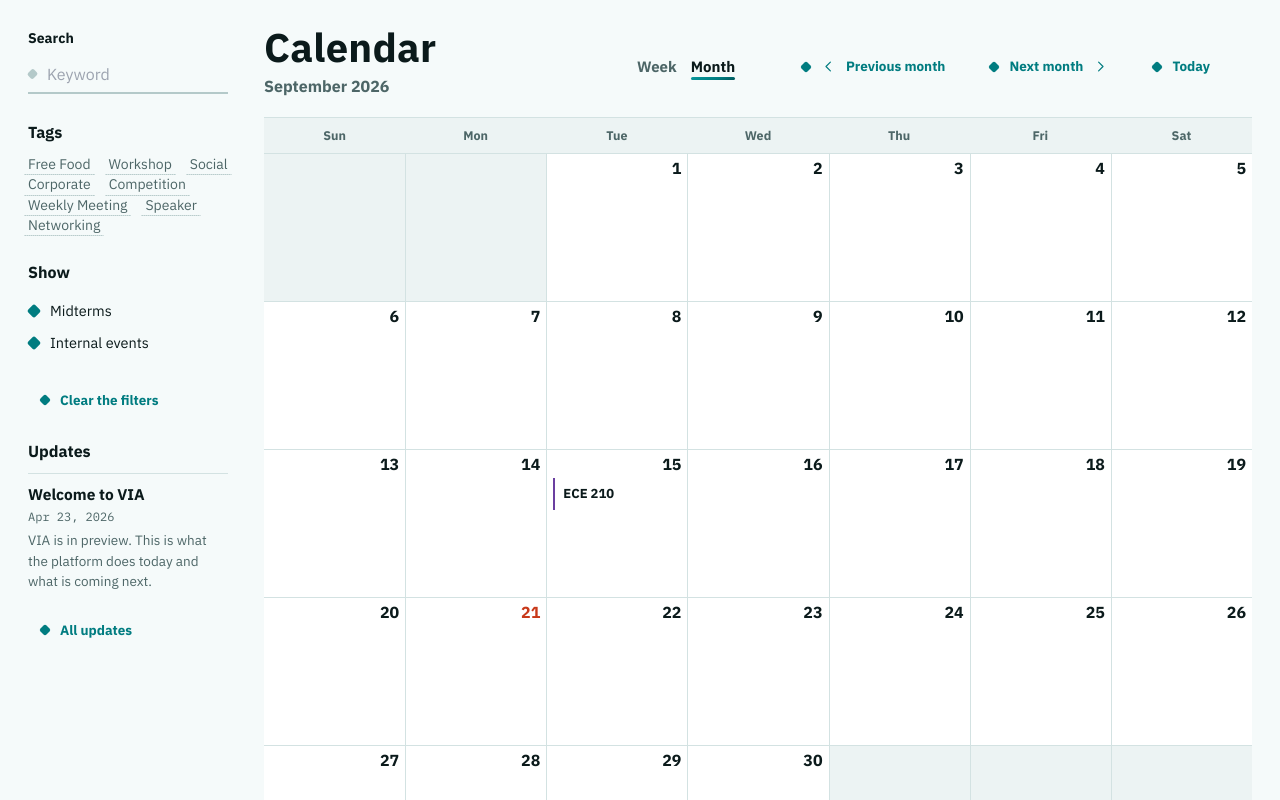
Calendar filter rail › takes the midterms off the grid when they are turned off
Expected: the text "ECE 210" is shown, 563,486 -> 614,502
Click the button "Midterms". click: point(128, 311)
box: 28,295 -> 228,327
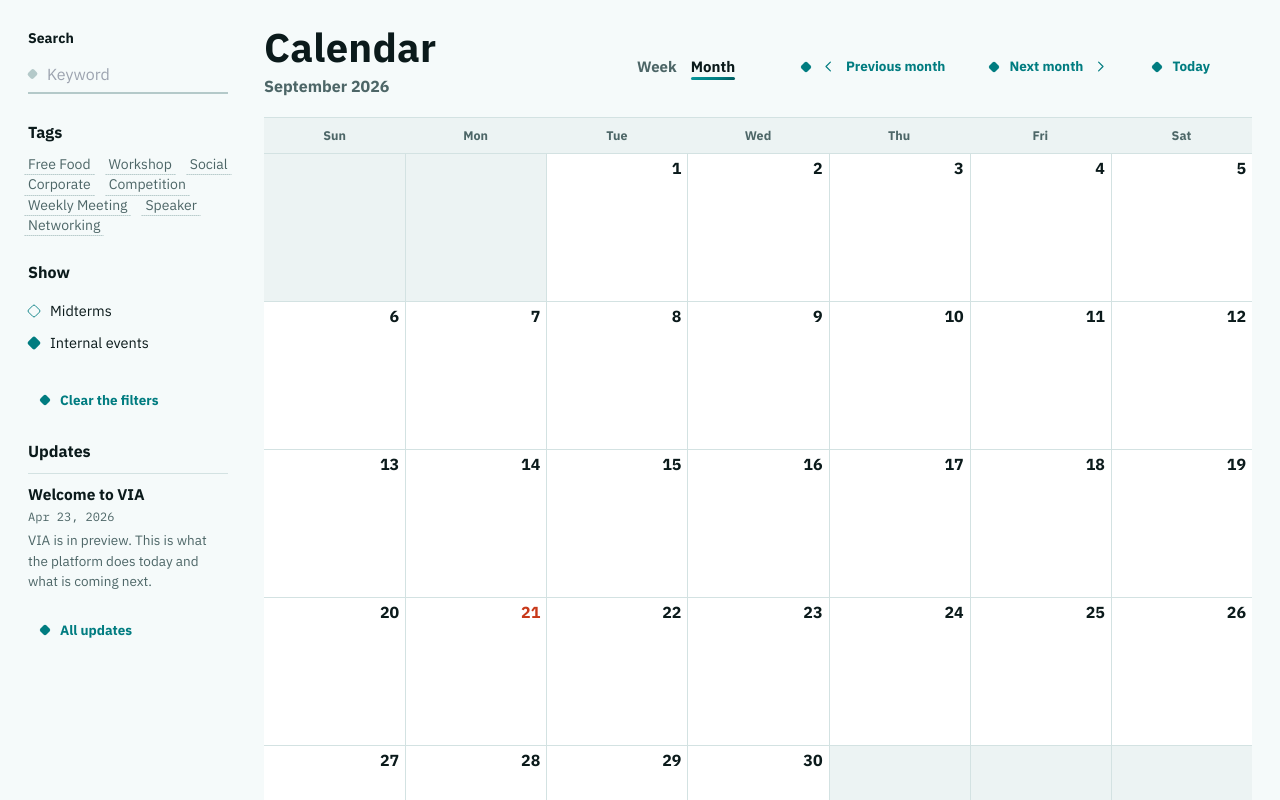
Expected: the text "ECE 210" is gone
